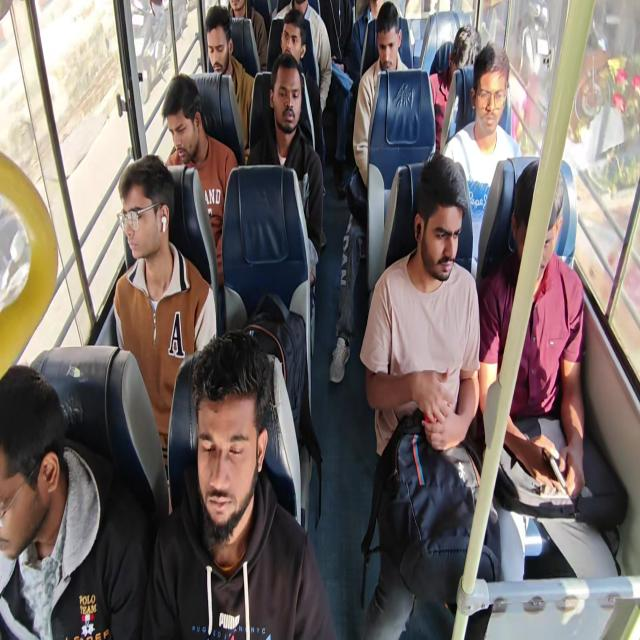person: (2, 1, 628, 638), (359, 153, 500, 638), (478, 158, 624, 583), (142, 329, 336, 639), (0, 363, 150, 639), (112, 153, 218, 484), (329, 1, 410, 383), (247, 53, 325, 310), (442, 41, 523, 278), (161, 73, 239, 288), (309, 0, 359, 198), (205, 5, 255, 154), (428, 24, 482, 153), (272, 0, 332, 114), (309, 0, 359, 80), (228, 0, 268, 72), (352, 0, 386, 78)
